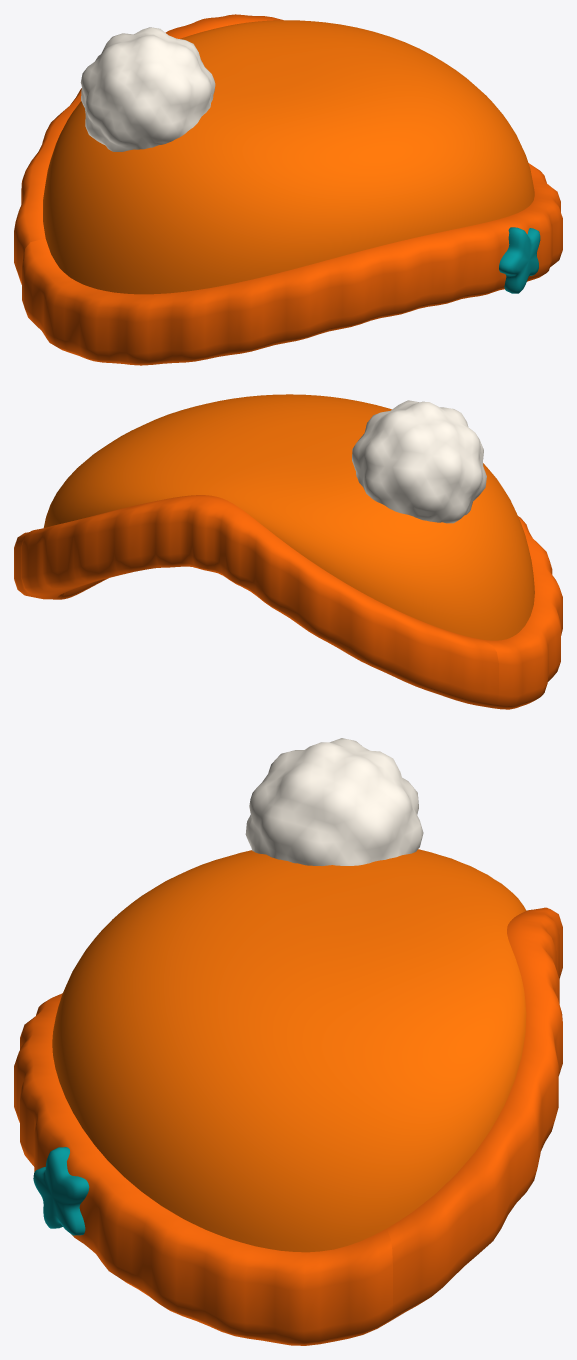
File: beanie.glb
3 views of the same model, one above another, from view 1: azimuth 30°, elevation 25°; view 2: azimuth 150°, elevation 25°; view 3: azimuth 270°, elevation 25° (orthographic). The views are drawn at different scales.
Visible parts, largest first — view 1: beanie_dome, beanie_cuff, beanie_pompom, beanie_cuff_back, beanie_star; view 2: beanie_dome, beanie_cuff_back, beanie_pompom, beanie_cuff; view 3: beanie_dome, beanie_cuff, beanie_cuff_back, beanie_pompom, beanie_star.
Part boxes in pixels (box(x1,y1,x2,y2)): beanie_dome: box(43, 20, 534, 294); beanie_cuff: box(22, 163, 562, 365); beanie_pompom: box(80, 27, 215, 151); beanie_cuff_back: box(14, 14, 283, 284); beanie_star: box(499, 227, 540, 293); beanie_dome: box(43, 394, 534, 640); beanie_cuff_back: box(14, 495, 498, 707); beanie_pompom: box(352, 400, 486, 523); beanie_cuff: box(59, 516, 562, 709); beanie_dome: box(52, 849, 526, 1252); beanie_cuff: box(14, 993, 392, 1345); beanie_cuff_back: box(387, 907, 562, 1320); beanie_pompom: box(245, 738, 423, 865); beanie_star: box(33, 1147, 89, 1235).
Bounding box in the file's own units: 1.42 × 0.7632 × 1.04.
